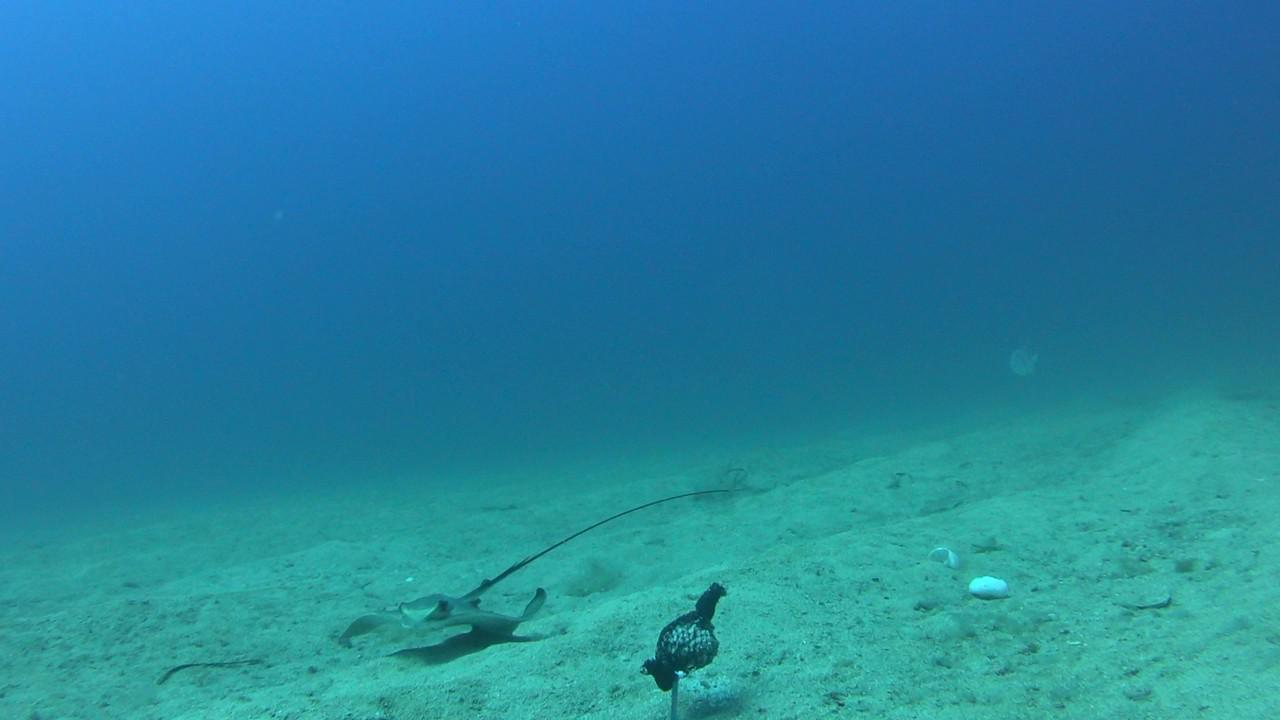myliobatis: (309, 481, 738, 650)
